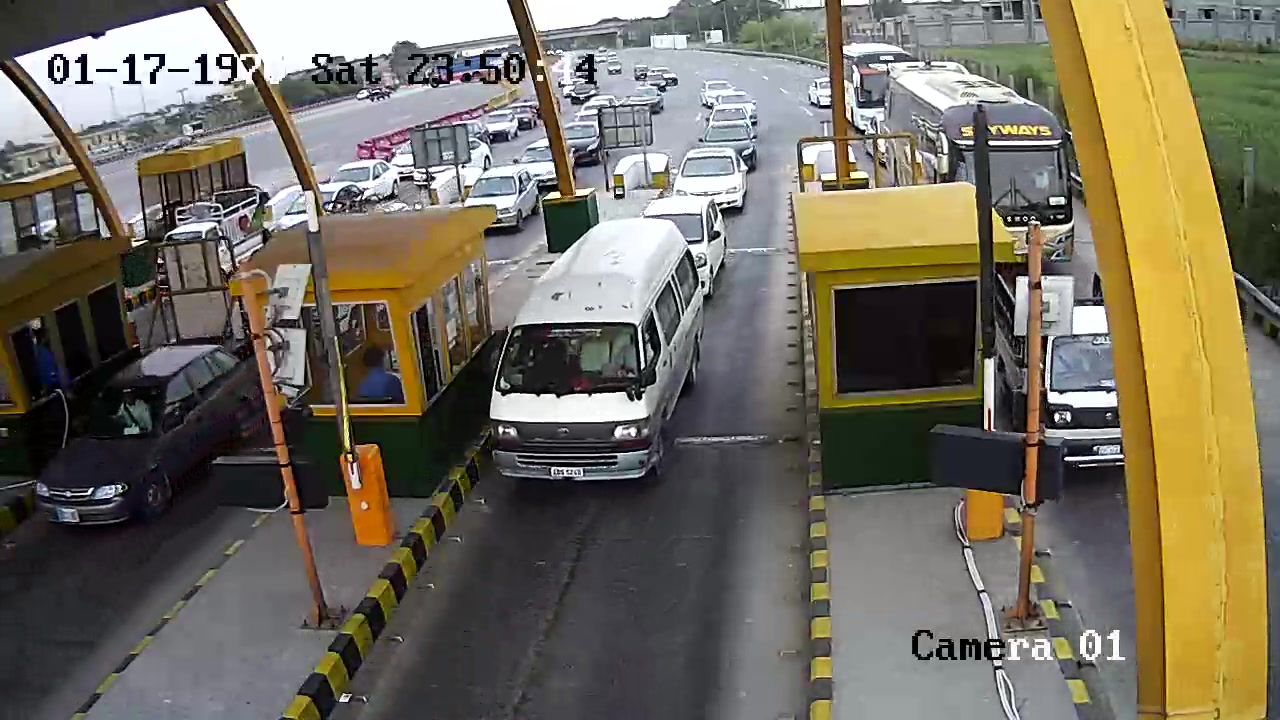F3: (483, 213, 711, 491)
